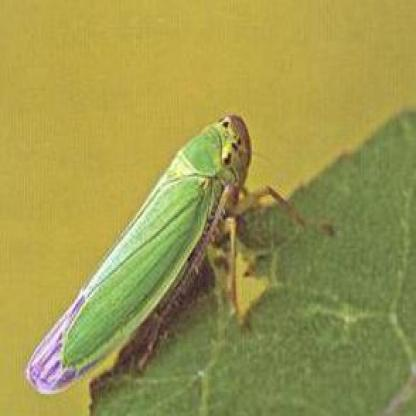Green-Leafhopper: (22, 104, 308, 401)
